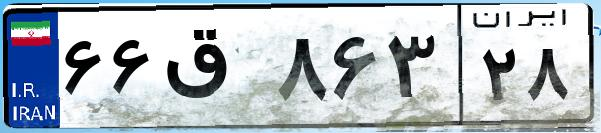2: (475, 38, 525, 113)
3: (385, 28, 445, 110)
6: (330, 28, 385, 110), (57, 26, 110, 100), (110, 28, 158, 98)
8: (270, 28, 330, 110), (525, 38, 570, 115)
ق: (158, 20, 270, 120)
